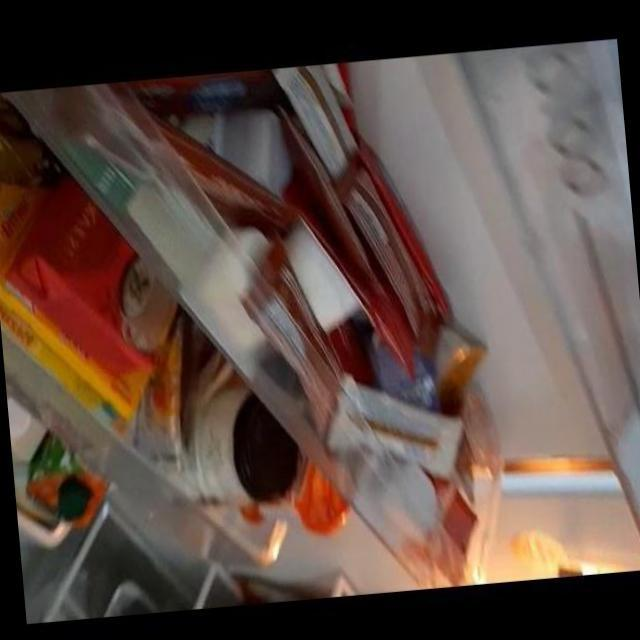juice: (11, 455, 110, 536)
